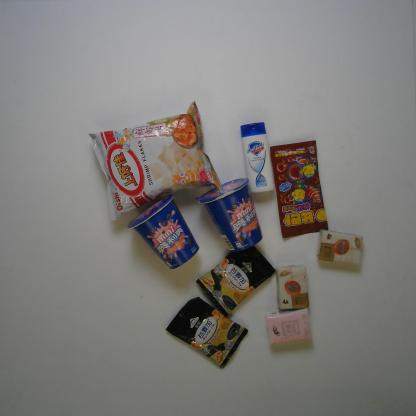Candy: (270, 140, 329, 239)
Dessert: (128, 194, 199, 270), (196, 178, 263, 252)
Instant Drink: (195, 239, 276, 318), (166, 296, 248, 368)
Personal Hygiene: (240, 122, 275, 194)
Puffed Food: (88, 101, 222, 221)
Tissue: (266, 307, 312, 346), (316, 230, 364, 266), (276, 266, 310, 310)
